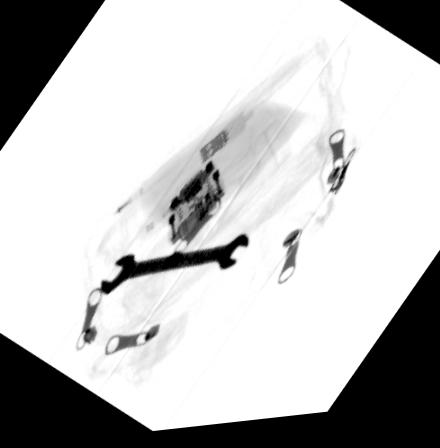Wrench: (99, 239, 247, 298)
